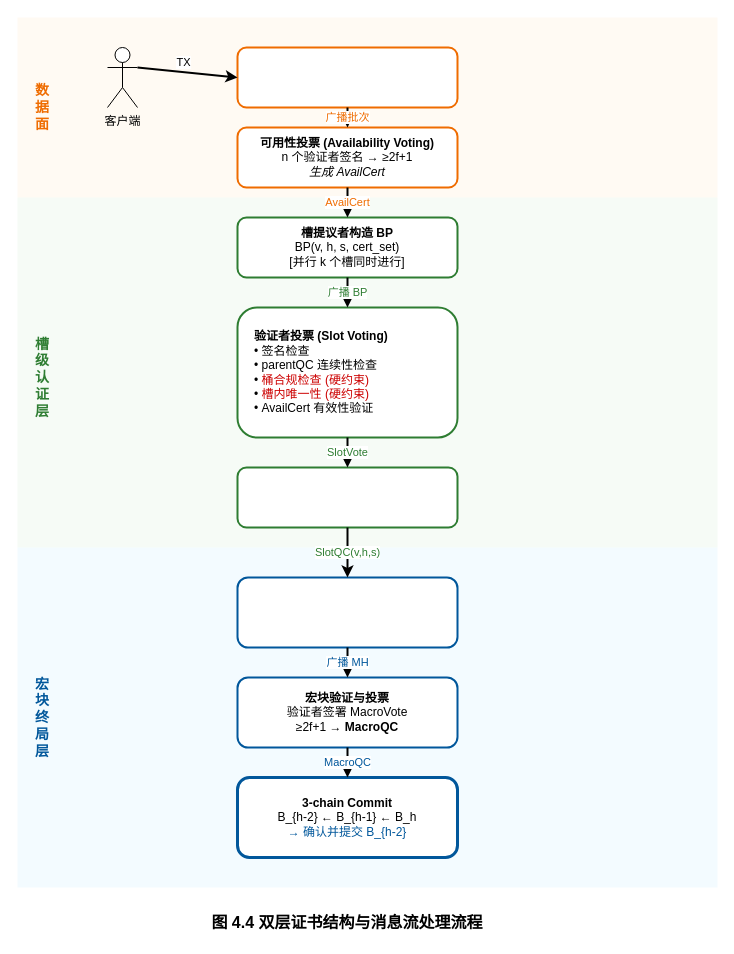
This 734x954 diagram has some shape labels left out. Here are the shapes that lost their labels. From the top down, the centre of each, then its label:
At (x=347, y=77): "批次打包 (Batching) 将 TX 封装为 Batch 内容".
At (x=347, y=497): "收集者聚合 SlotQC ≥2f+1 SlotVote 聚合 生成 SlotQC(v, h, s)".
At (x=347, y=612): "宏块领导者组装 MH 收集 k 个并行槽的 SlotQC MH(v, h, parentQC, entries)".
